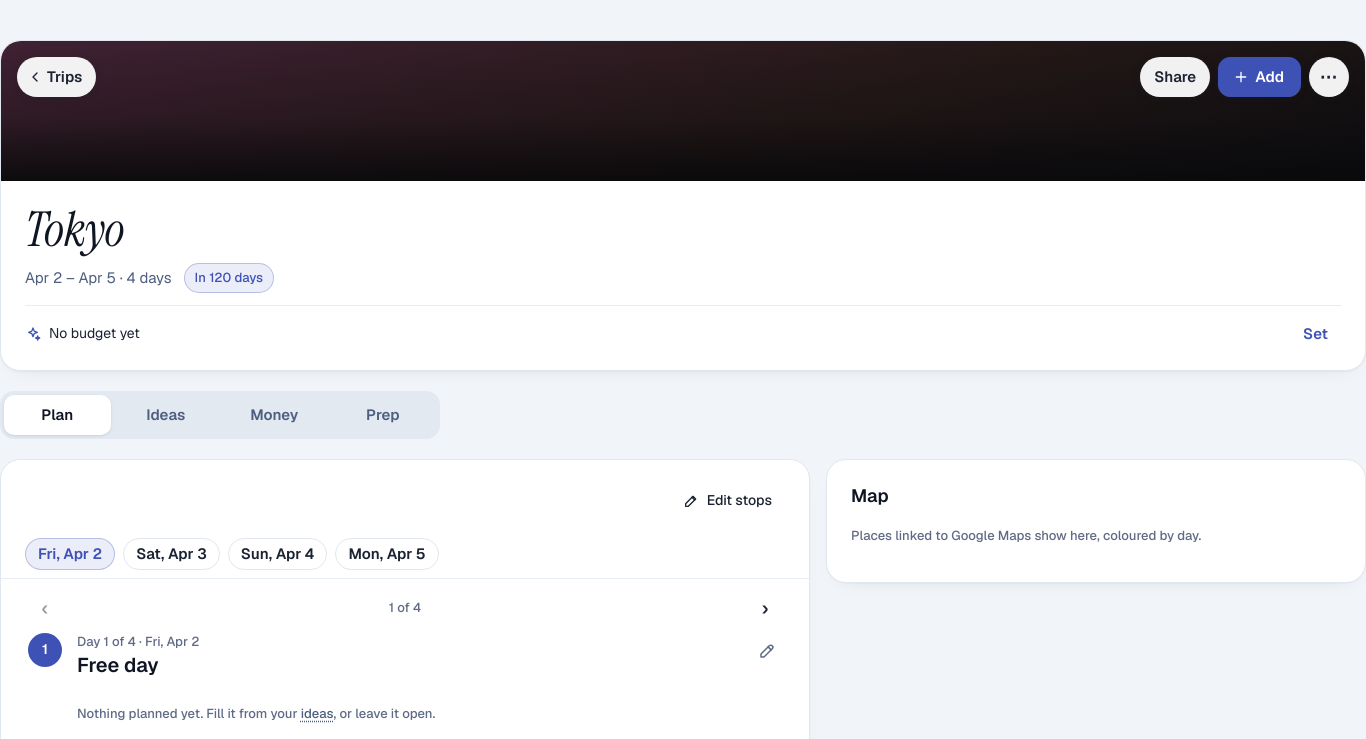
getting around and directions › is in the owner's trip menu, in a sheet with both pickers, and no longer under the itinerary
Check: the field labelled "Getting around" is not shown
Check: the field labelled "Directions open in" is not shown
Click the button named "Trip options".
click(1329, 77)  # box 1309,57 -> 1349,97
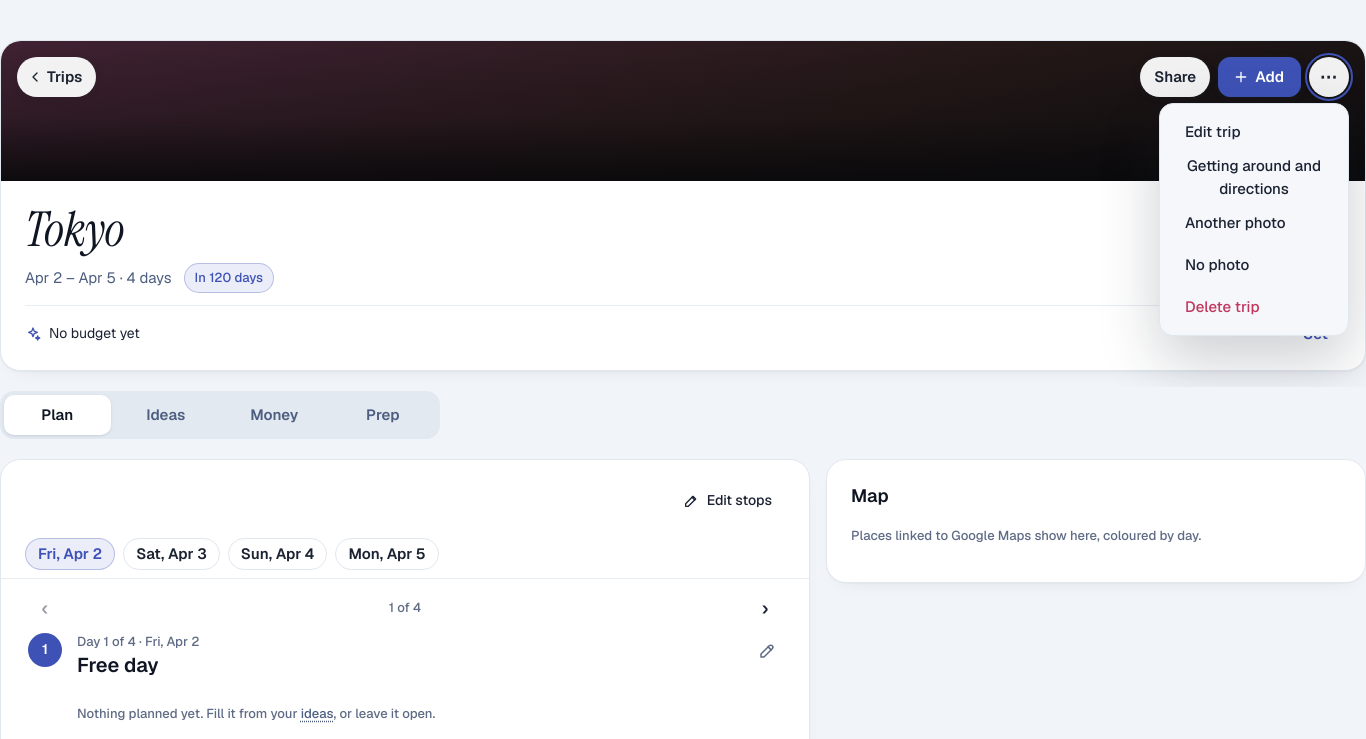
Click the menu item "Getting around and directions".
click(1254, 178)  # box 1168,154 -> 1340,201
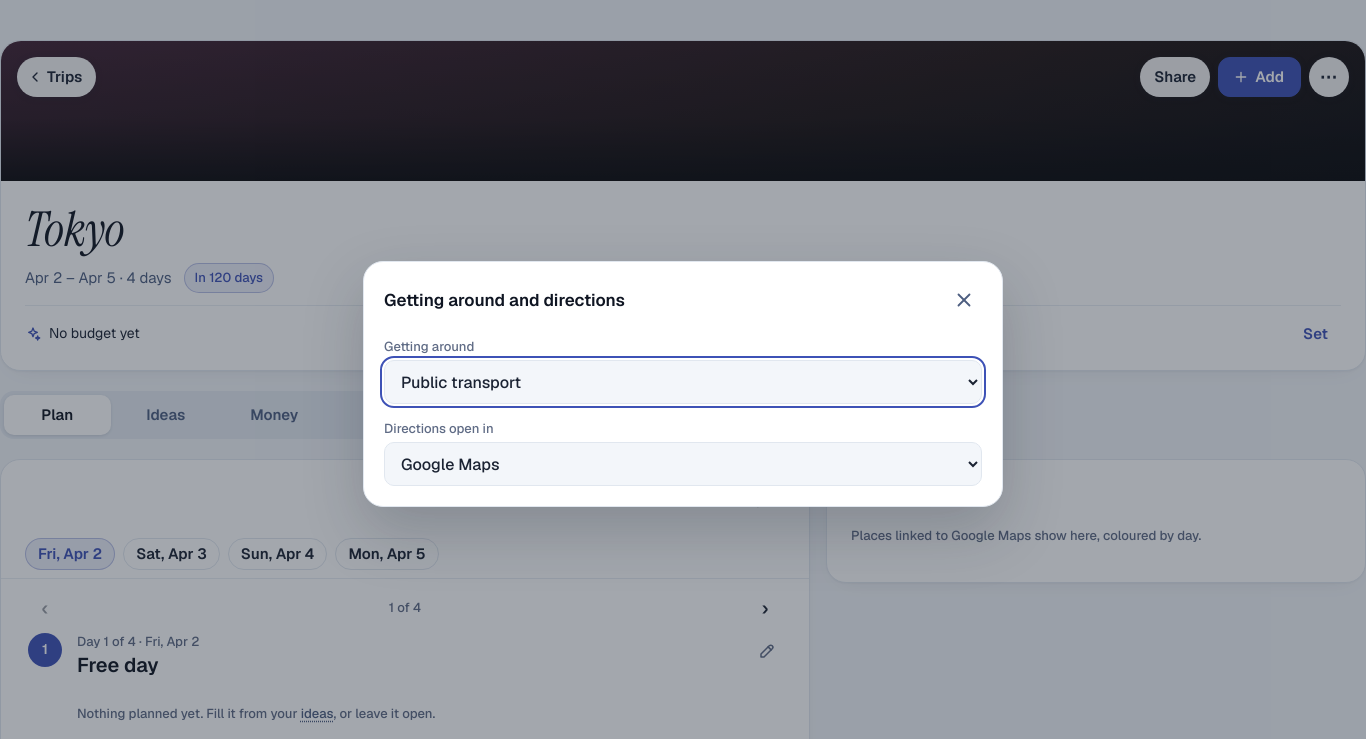
Check: the dropdown labelled "Directions open in" is shown, box 384,442 -> 982,486
Select "Hire car" in the dropdown labelled "Getting around" at x=683, y=382, box 384,360 -> 982,404
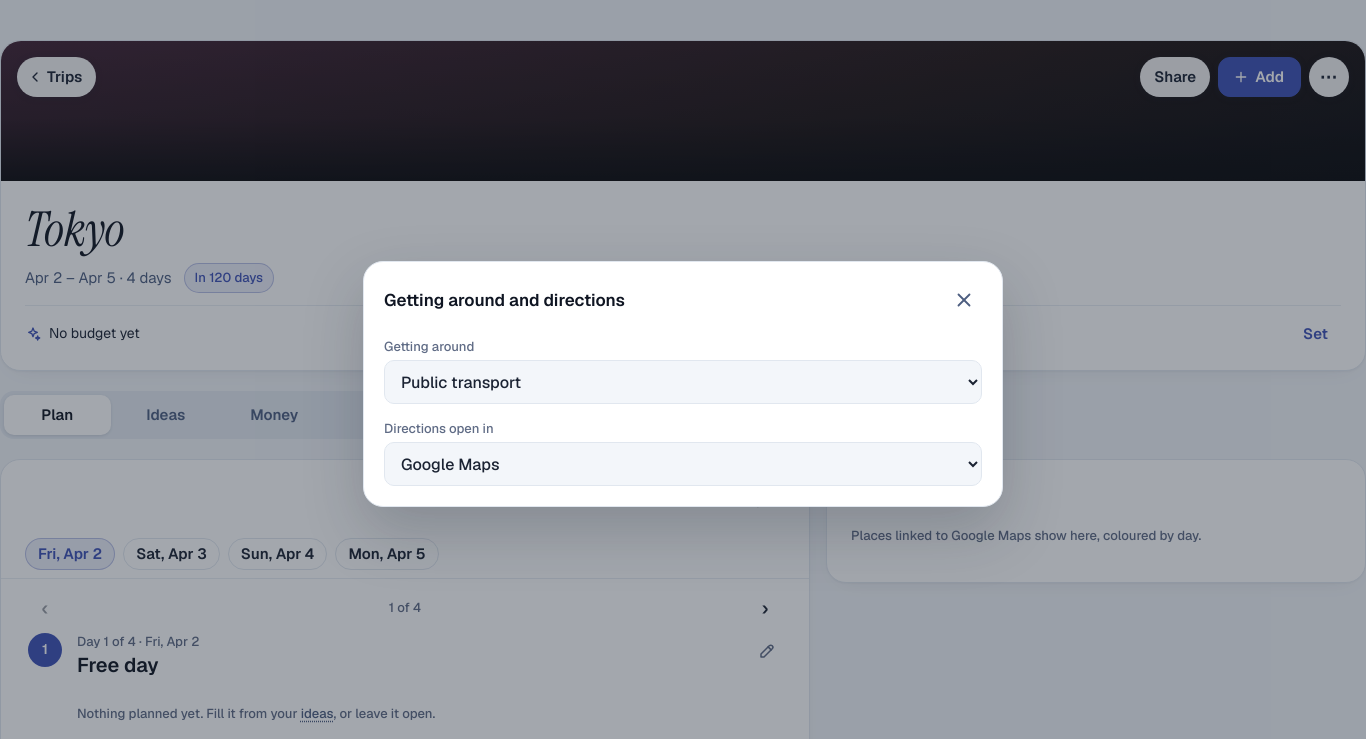
Press Escape
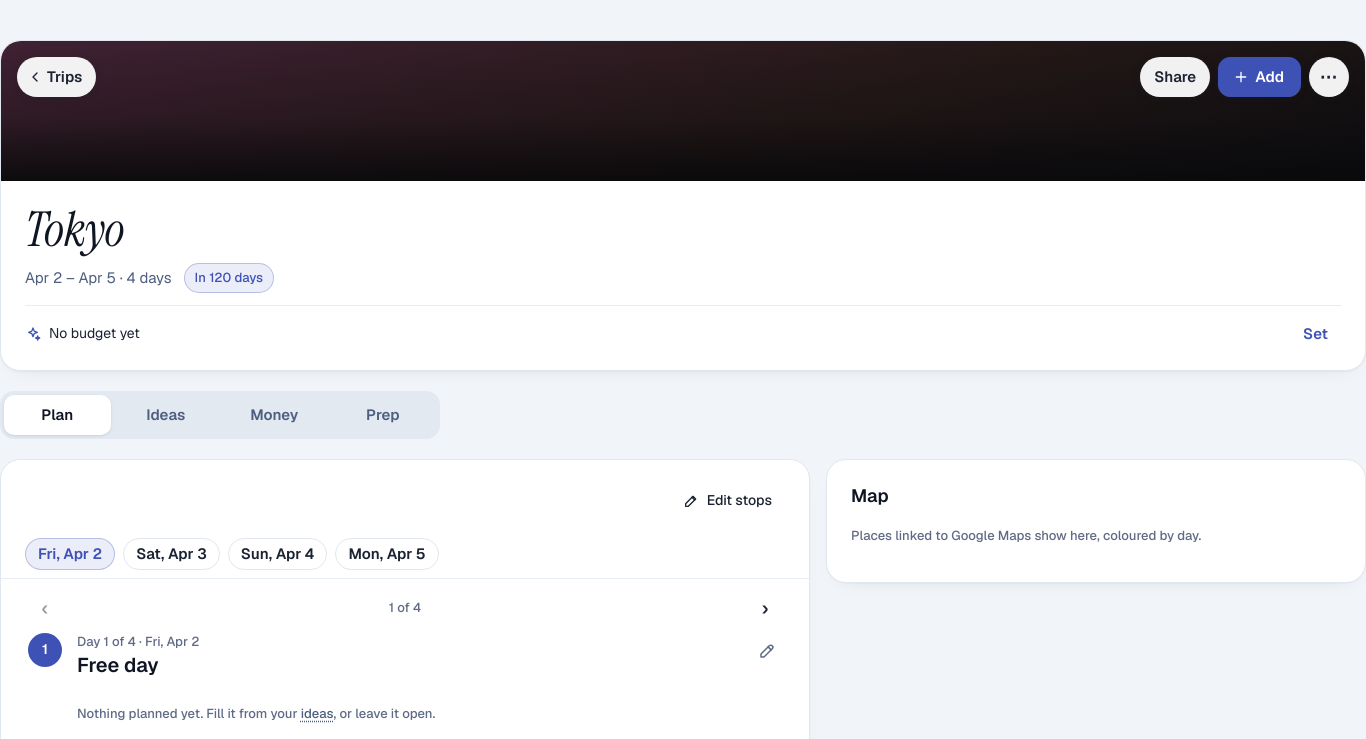
Check: the heading "Getting around and directions" is gone
